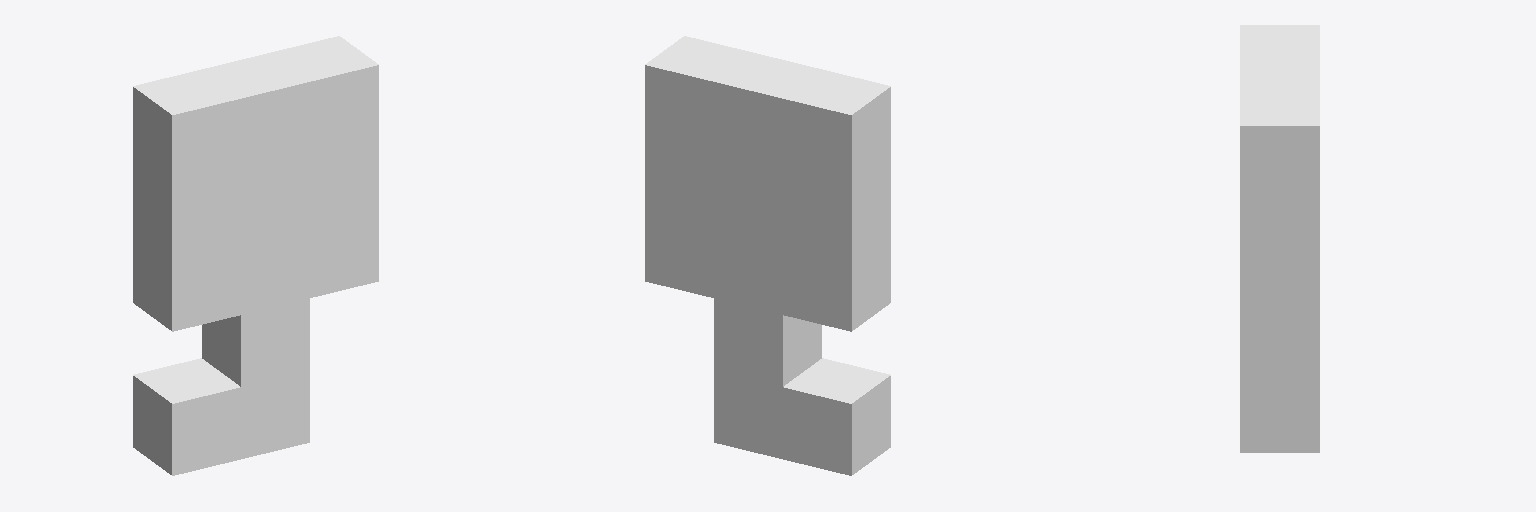
File: blan.obj
The picture shows the model from 3 angles: view 1: azimuth 30°, elevation 25°; view 2: azimuth 150°, elevation 25°; view 3: azimuth 270°, elevation 25°; orthographic projection.
Parts seen in each view (by area): view 1: object 1; view 2: object 1; view 3: object 1.
Boxes of the visible parts, box(x1,y1,x2,y2) form: object 1: box(133, 36, 378, 475); object 1: box(645, 36, 890, 475); object 1: box(1240, 25, 1319, 452).
Bounding box in the file's own units: 0.3 × 0.5 × 0.1.